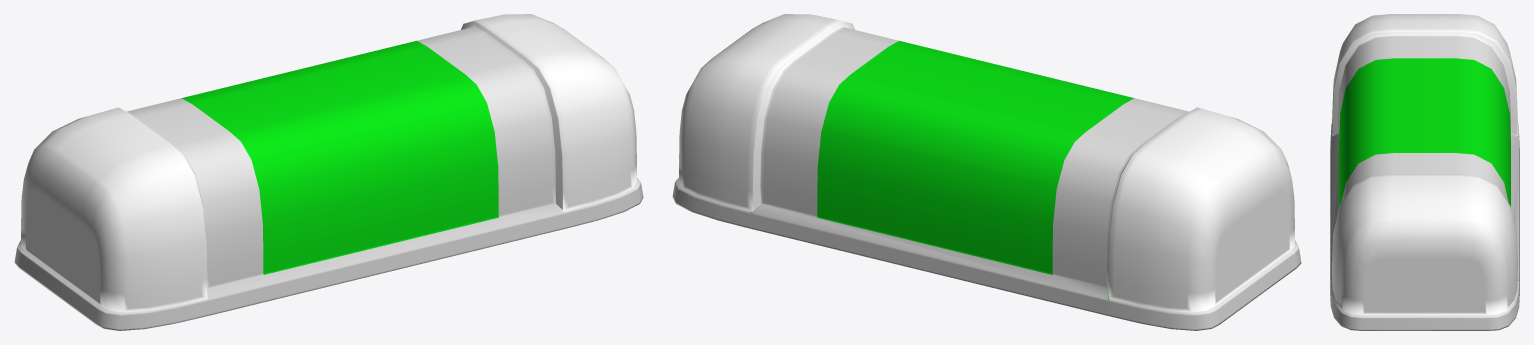
File: Notes_HOPO.fbx
3 renders of one model, left to right at view 1: azimuth 30°, elevation 25°; view 2: azimuth 150°, elevation 25°; view 3: azimuth 270°, elevation 25°, orthographic. The views are drawn at different scales.
Parts seen in each view (by area): view 1: Cube.002; view 2: Cube.002; view 3: Cube.002.
Part boxes in pixels (x1,y1,x2,y2): Cube.002: [14, 14, 643, 330]; Cube.002: [672, 14, 1301, 330]; Cube.002: [1330, 14, 1519, 330].
Bounding box in the file's own units: 256 × 65.18 × 93.96.
